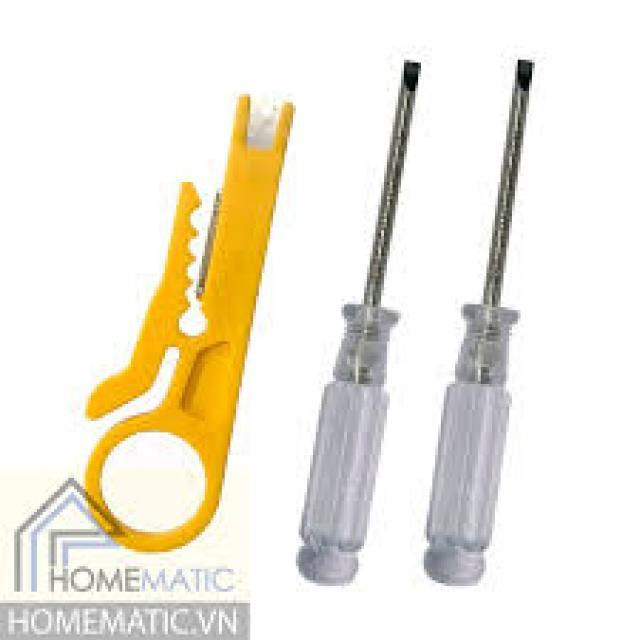screwdriver: (292, 47, 428, 590), (422, 49, 539, 590)
